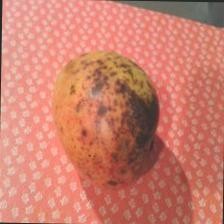Mango Overripe: (46, 45, 162, 190)
